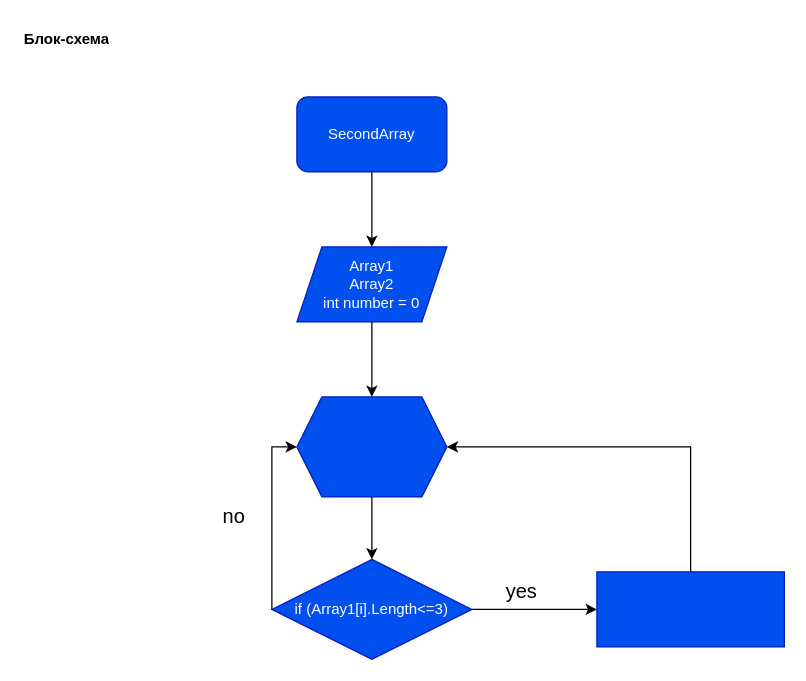
Image size: 806x681. Some labels were removed from this diagram. Each missing label, with the centre of its shape:
"Array2[number] = Array1[i]; number++" belongs at (x=690, y=609).
"for (int i = 0; i < Array1.Length; i++)" belongs at (x=371, y=446).
